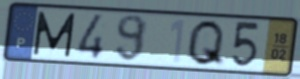1: (169, 18, 186, 65)
4: (75, 13, 108, 62)
5: (229, 20, 264, 70)
9: (114, 13, 150, 65)
M: (31, 10, 78, 59)
Q: (184, 18, 227, 69)
